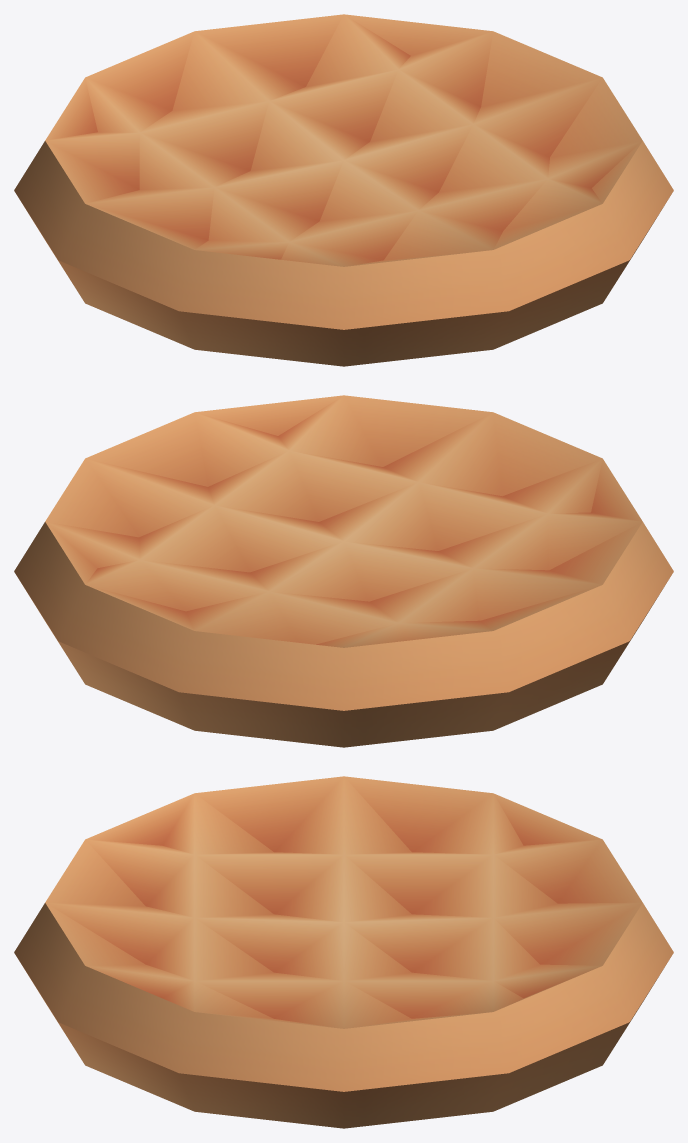
Rendered from icecream_waffle.obj.
3 renders of one model, top to bottom at view 1: azimuth 30°, elevation 25°; view 2: azimuth 150°, elevation 25°; view 3: azimuth 270°, elevation 25°, orthographic.
Parts seen in each view (by area): view 1: icecream_waffle_Cylinder.339; view 2: icecream_waffle_Cylinder.339; view 3: icecream_waffle_Cylinder.339.
Part boxes in pixels (bbox=[...]): icecream_waffle_Cylinder.339: bbox=[14, 14, 673, 366]; icecream_waffle_Cylinder.339: bbox=[14, 395, 673, 747]; icecream_waffle_Cylinder.339: bbox=[14, 776, 673, 1128].
Size of the model in its own units: 0.6 by 0.1 by 0.6.
Materials: 1 (1 with a texture image).
